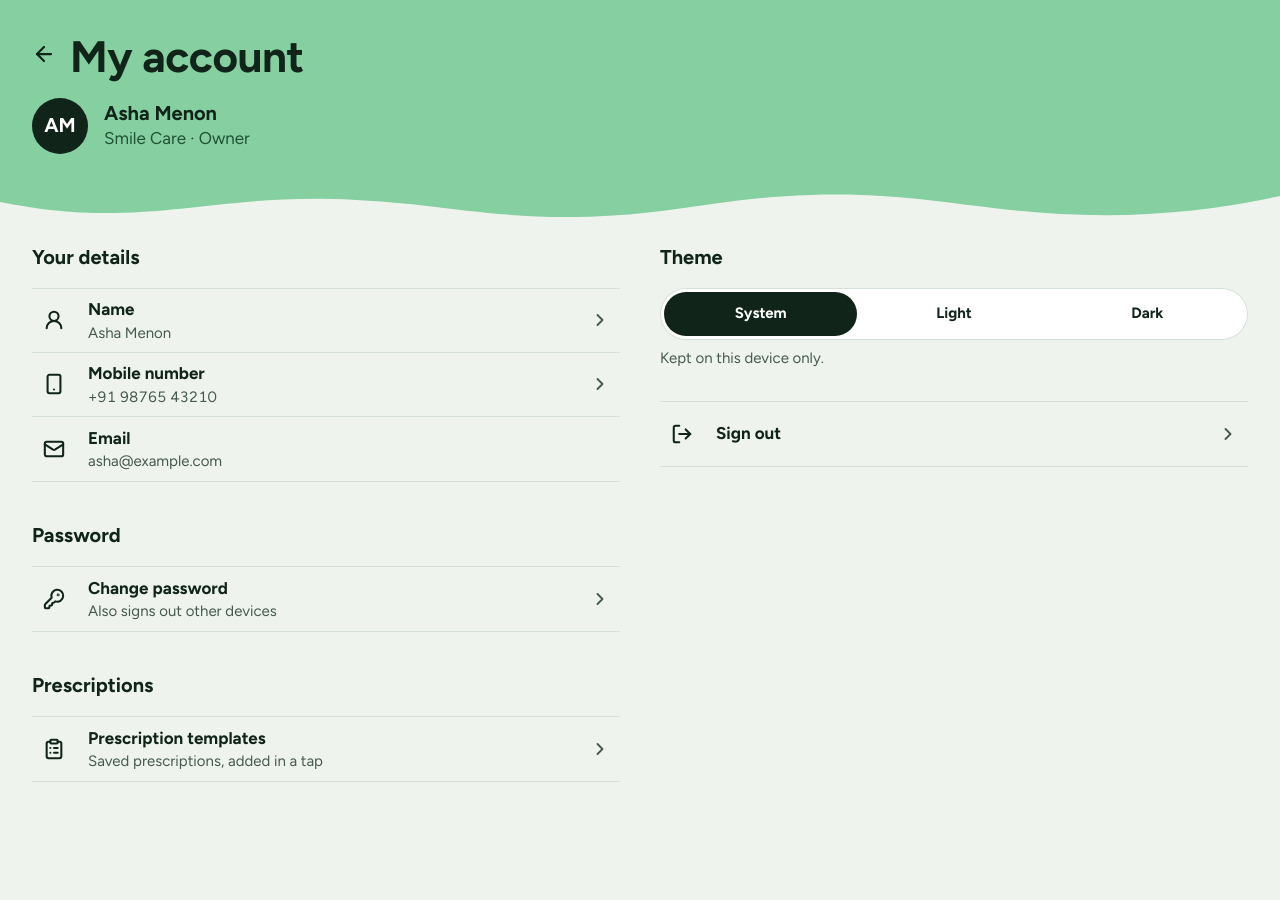
Test: MyAccount › opens Change password in its own sheet
Check: the element "Password" shows "Also signs out other devices", box [88, 602, 277, 620]
Click the button "Change password": (158, 588) [88, 576, 578, 601]
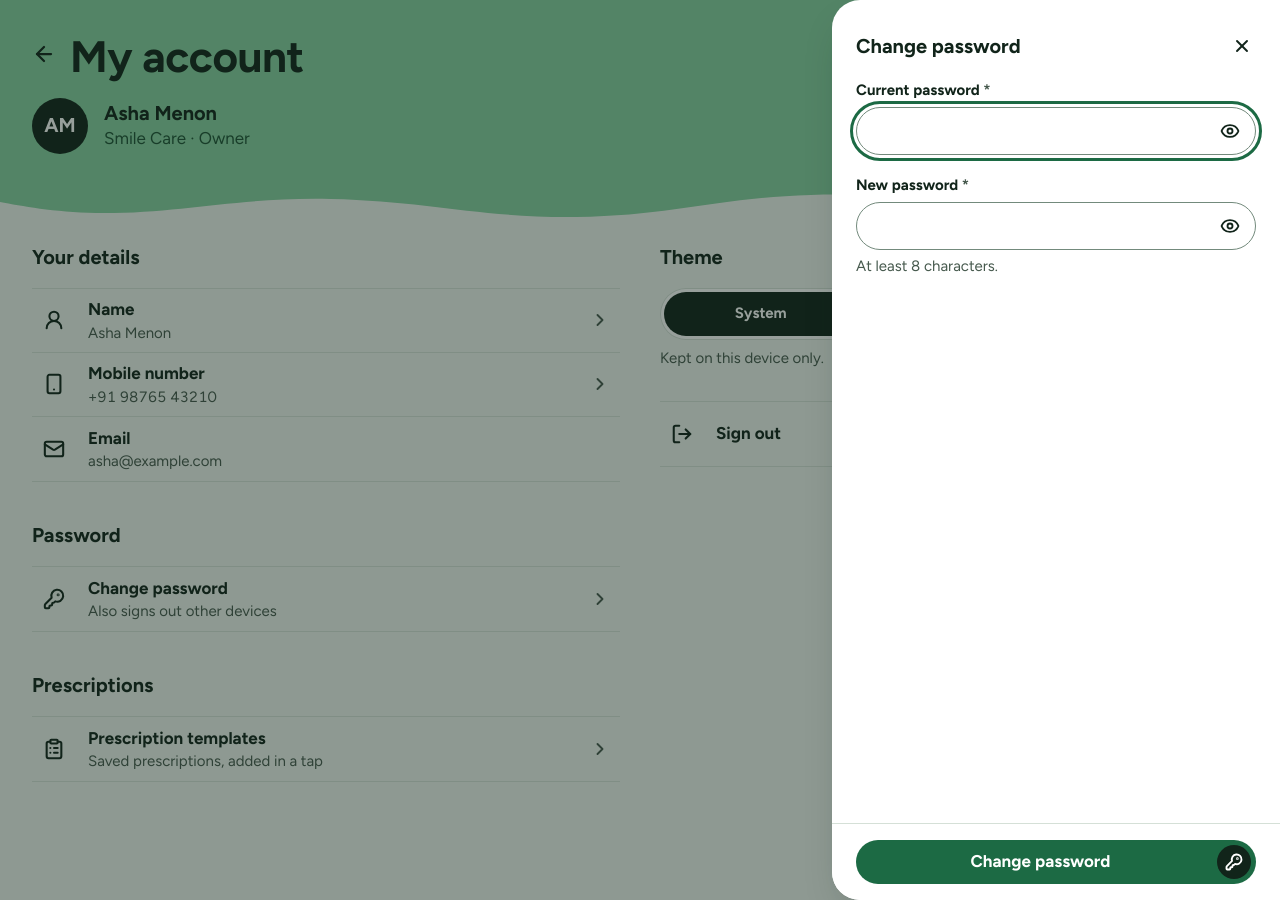
Check: the dialog "Change password" is shown, box [832, 0, 1279, 899]
